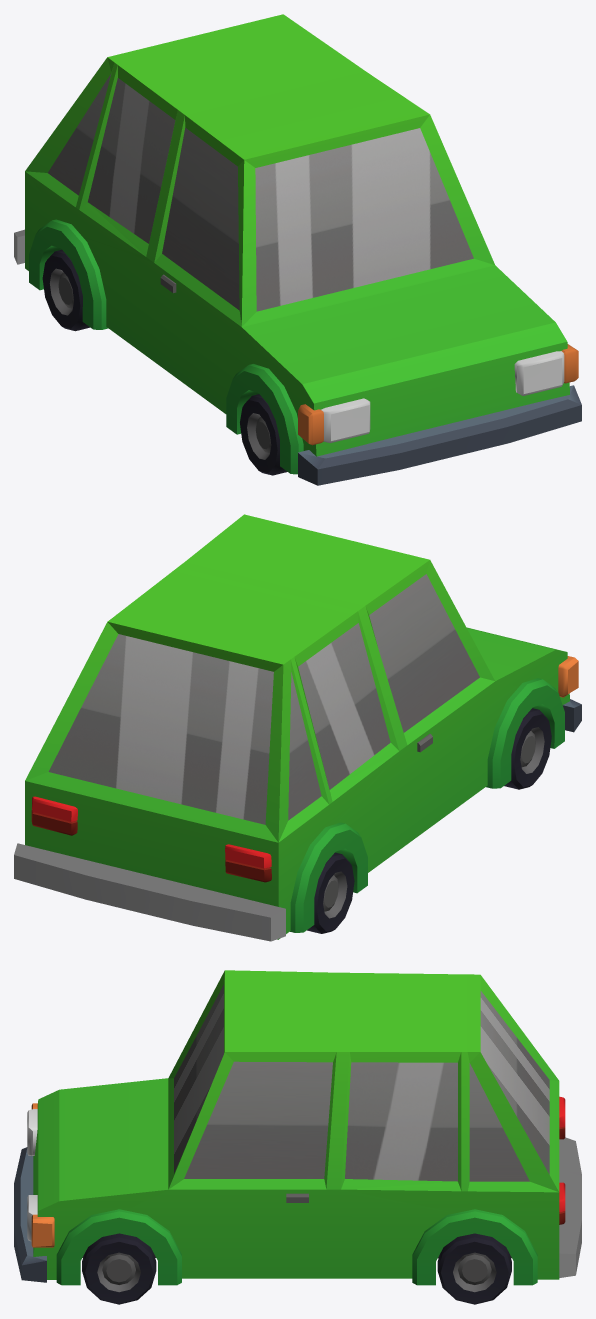
The model's file is Car_1_5.glb.
The picture shows the model from 3 angles, top to bottom: view 1: azimuth 30°, elevation 25°; view 2: azimuth 150°, elevation 25°; view 3: azimuth 270°, elevation 25°; orthographic projection. The views are drawn at different scales.
Parts seen in each view (by area): view 1: Car_1_5, Wheel_Br, Wheel_Fr; view 2: Car_1_5, Wheel_Fr, Wheel_Br; view 3: Car_1_5, Wheel_Fl, Wheel_Bl.
Part boxes in pixels (x1,y1,x2,y2): Car_1_5: (14,14,581,485); Wheel_Br: (42,249,89,331); Wheel_Fr: (240,394,287,475); Car_1_5: (14,514,581,941); Wheel_Fr: (504,708,551,789); Wheel_Br: (307,852,354,933); Car_1_5: (14,970,581,1285); Wheel_Fl: (82,1233,156,1304); Wheel_Bl: (437,1233,511,1304).
Bounding box in the file's own units: 1.05 × 0.9433 × 2.07.
4 materials, 4 textured.
